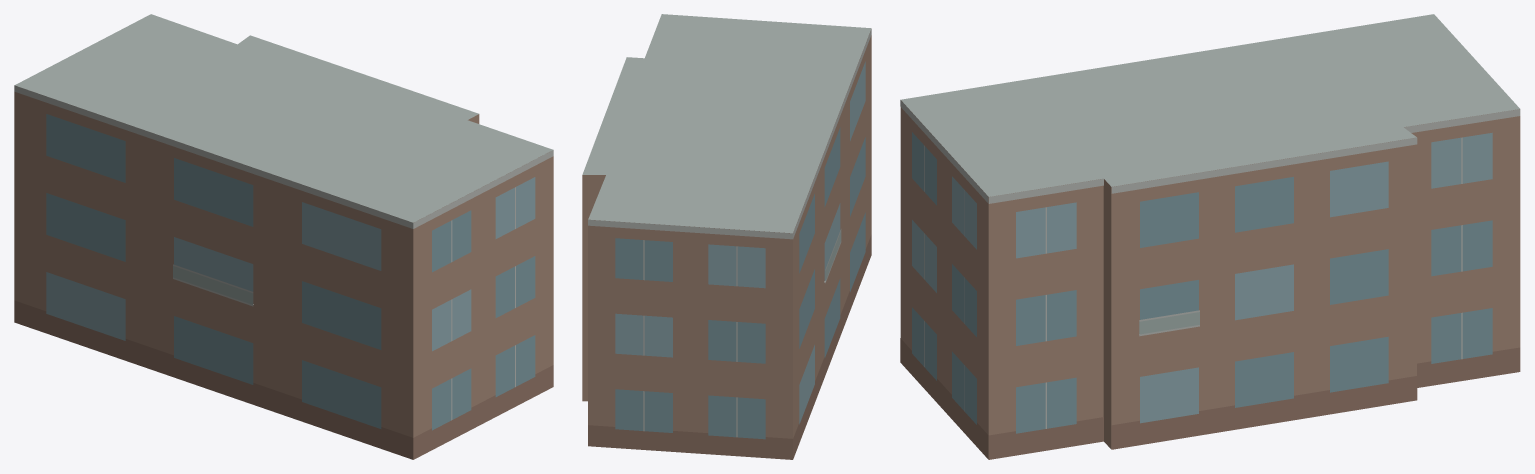
Rendered from survey-upis-32697635.glb.
3 views of the same model, side by side, from view 1: azimuth 30°, elevation 25°; view 2: azimuth 150°, elevation 25°; view 3: azimuth 270°, elevation 25° (orthographic). The views are drawn at different scales.
Visible parts, largest first — view 1: survey-upis-32697635.tmp; view 2: survey-upis-32697635.tmp; view 3: survey-upis-32697635.tmp.
Part boxes in pixels (<box>): survey-upis-32697635.tmp: <box>14,14,553,459</box>; survey-upis-32697635.tmp: <box>582,14,871,459</box>; survey-upis-32697635.tmp: <box>900,14,1520,459</box>.
Bounding box in the file's own units: 13.67 × 9.15 × 19.56.
